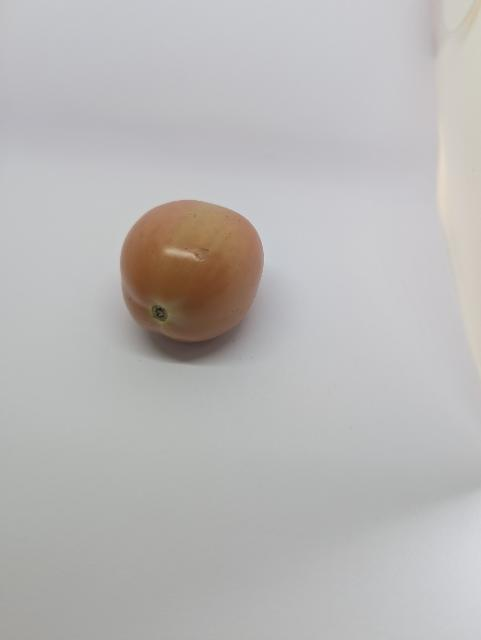turning: (100, 190, 274, 347)
